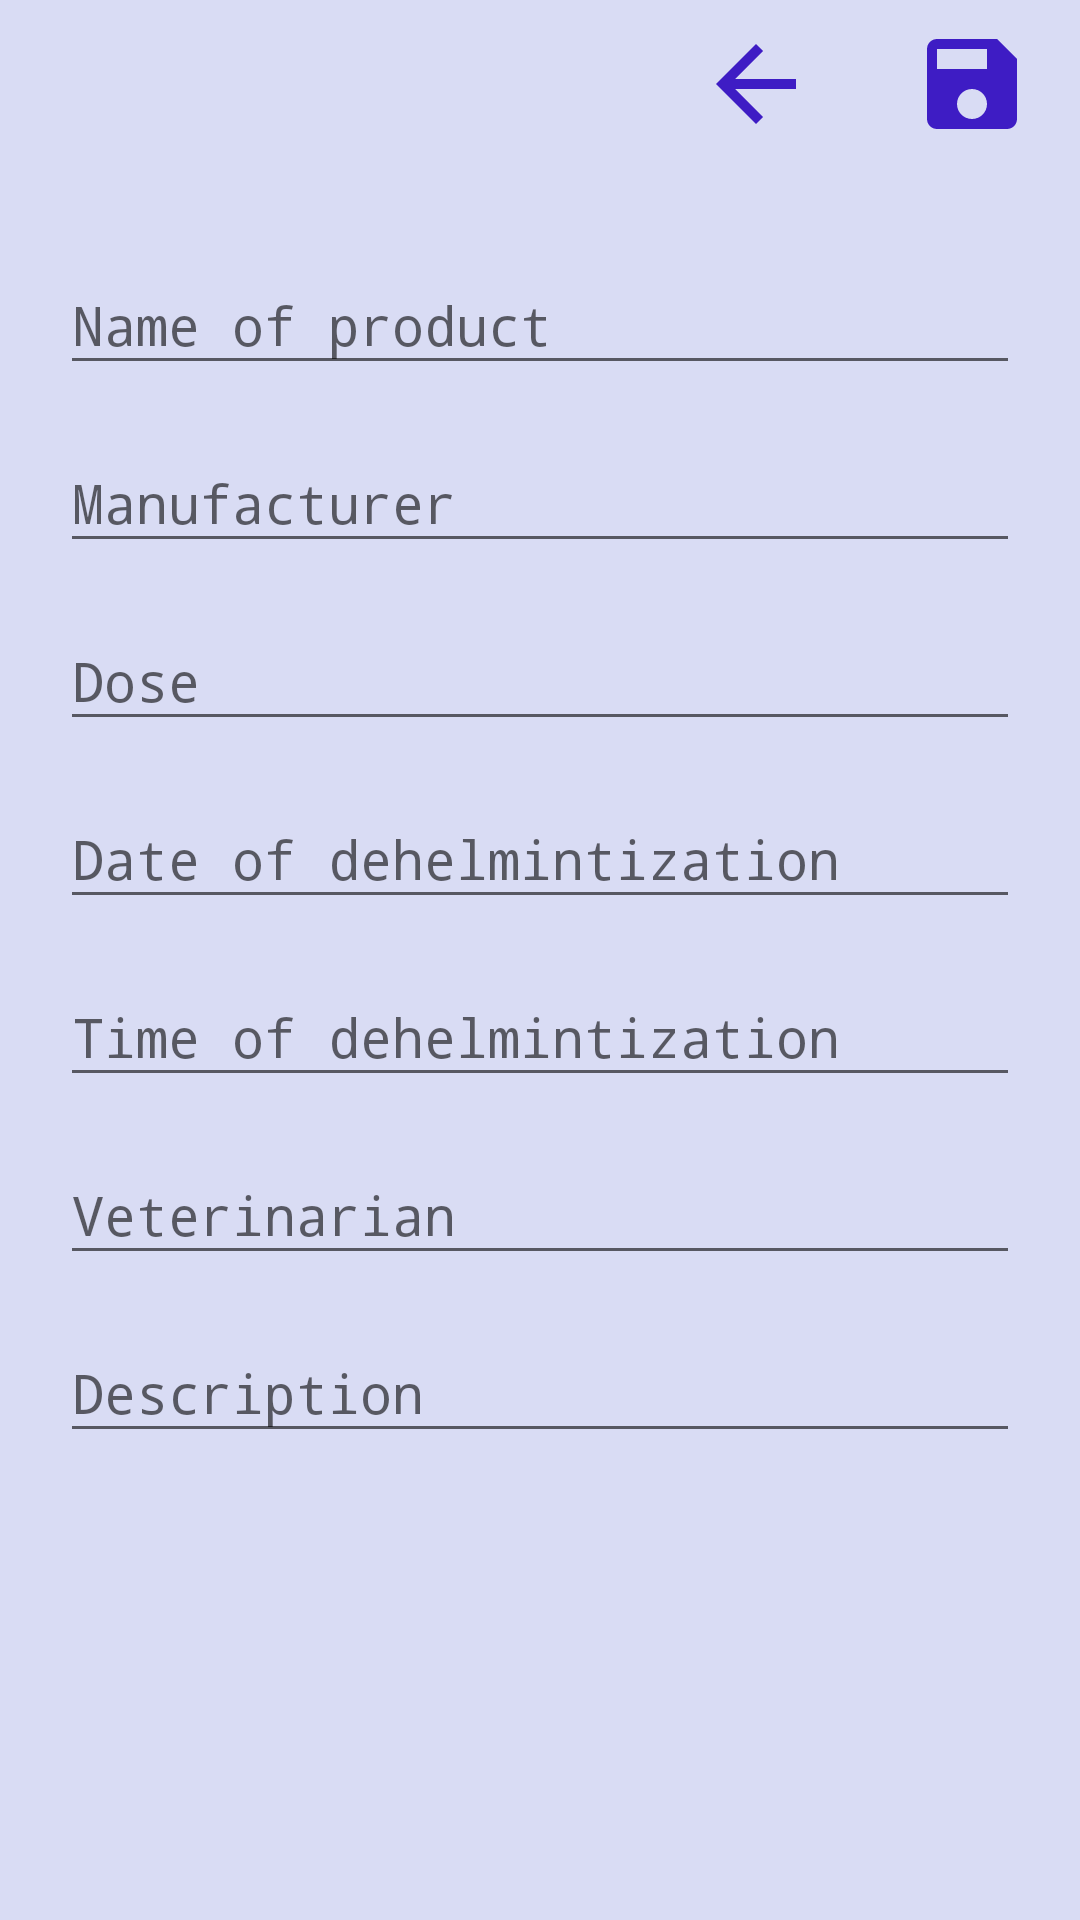

Screen size 1080x1920. Icon name, then its center in pixels as point (x, y):
back: point (756, 84)
save: point (972, 84)
